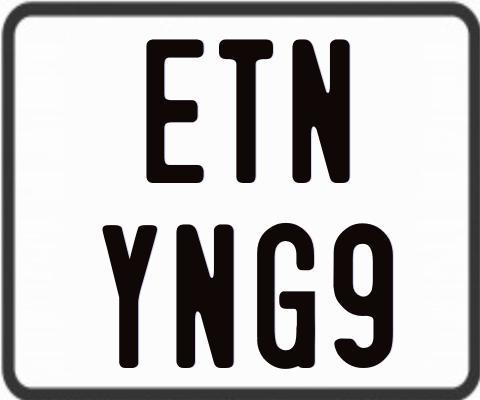9: (332, 222, 396, 371)
E: (143, 37, 205, 186)
G: (256, 221, 320, 369)
N: (289, 39, 350, 186), (173, 222, 231, 371)
T: (219, 37, 278, 182)
Y: (103, 223, 160, 371)
